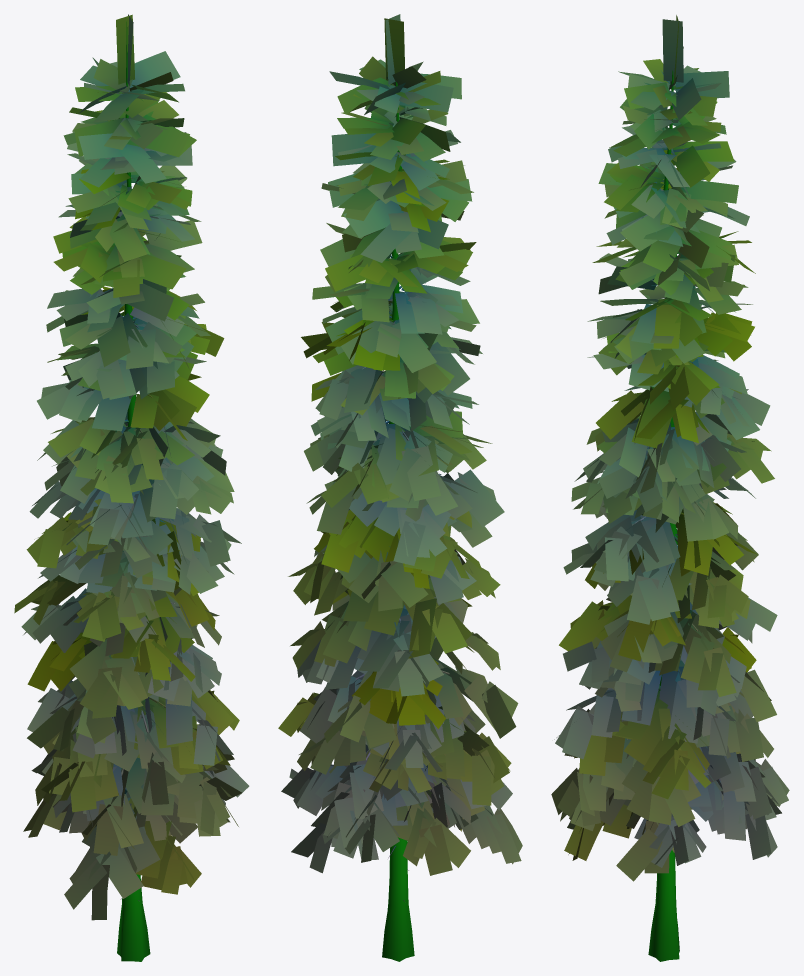
File: spruce_b.glb
3 views of the same model, side by side, from view 1: azimuth 30°, elevation 25°; view 2: azimuth 150°, elevation 25°; view 3: azimuth 270°, elevation 25° (orthographic).
Visible parts, largest first — view 1: LOD0; view 2: LOD0; view 3: LOD0.
Boxes of the visible parts, x1,y1,x2,y2 form: LOD0: (14,14,249,961); LOD0: (278,14,522,961); LOD0: (551,15,789,961).
Size of what is drawn, in the model's own units: 5.14 by 20.47 by 4.73.
